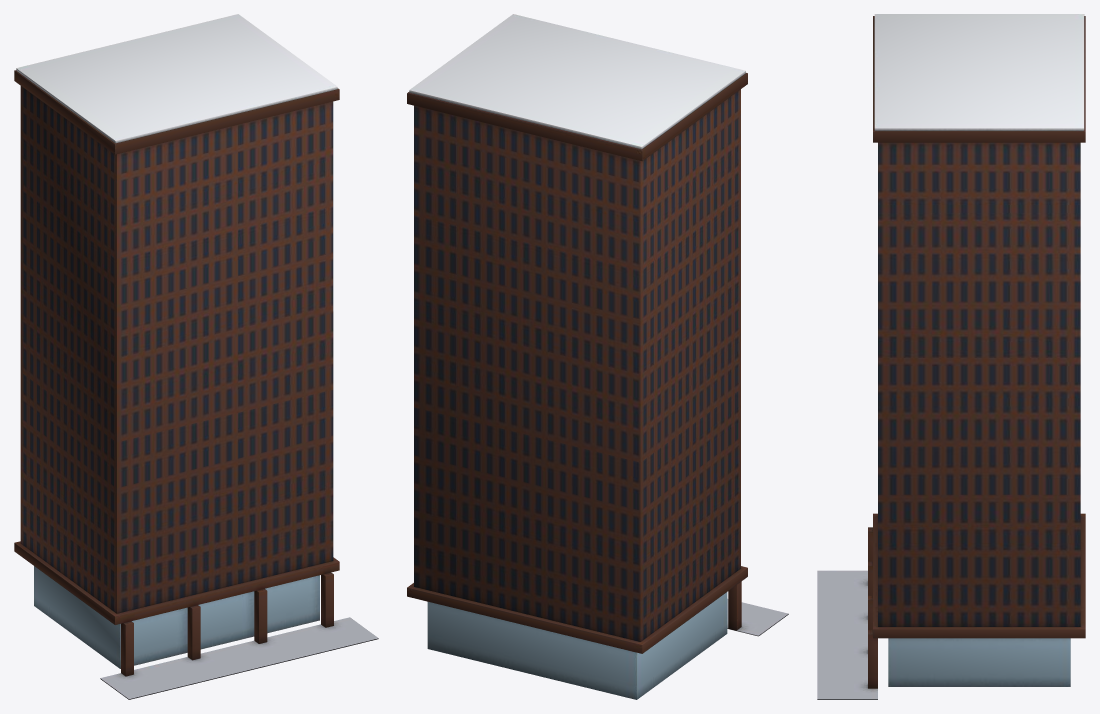
File: ruan.glb
3 renders of one model, left to right at view 1: azimuth 30°, elevation 25°; view 2: azimuth 150°, elevation 25°; view 3: azimuth 270°, elevation 25°, orthographic. The views are drawn at different scales.
Parts seen in each view (by area): view 1: ruan; view 2: ruan; view 3: ruan.
Part boxes in pixels (x1,y1,x2,y2): ruan: [14, 14, 378, 699]; ruan: [407, 14, 788, 699]; ruan: [817, 14, 1085, 699].
Bounding box in the file's own units: 30 × 61.5 × 26.5.
1 material, 1 textured.
